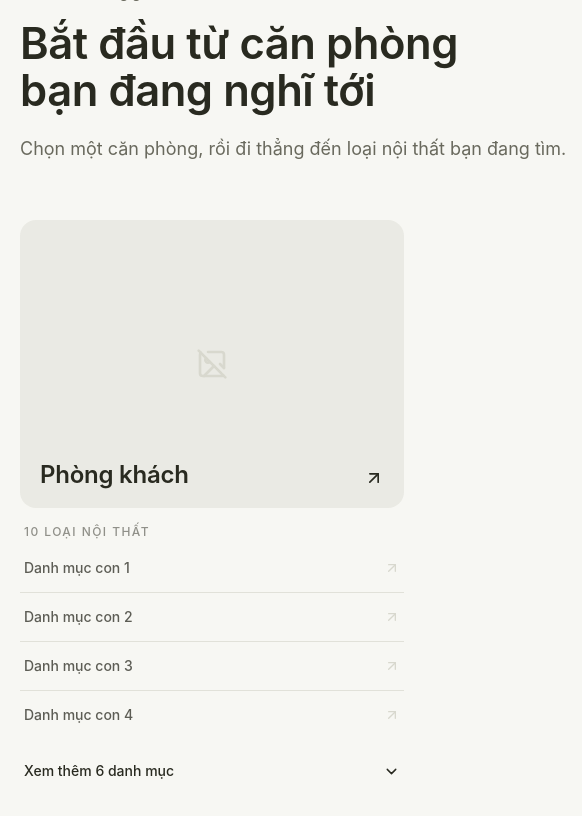
Test: FeaturedCategories › keeps long child lists compact and lets customers reveal every category
(page scrolled)
Expected: the text "10 loại nội thất" is shown, [24,524,150,540]
Expected: the link "Danh mục con 4" is shown, [24,706,400,723]
Click the button "Xem thêm 6 danh mục" at (99, 770), box [20,747,404,795]
(page scrolled)
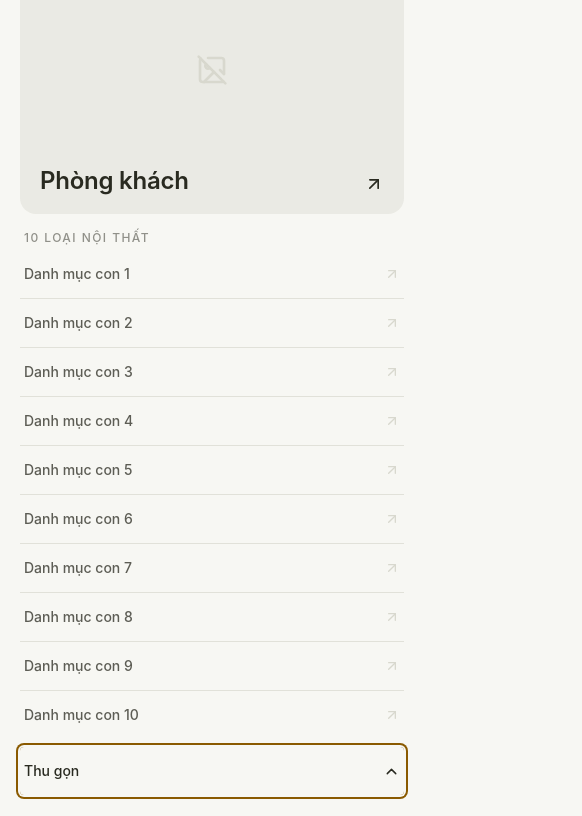
Now the button "Thu gọn" is expanded
Click the button "Thu gọn" at (52, 770), box [20,747,404,795]
(page scrolled)
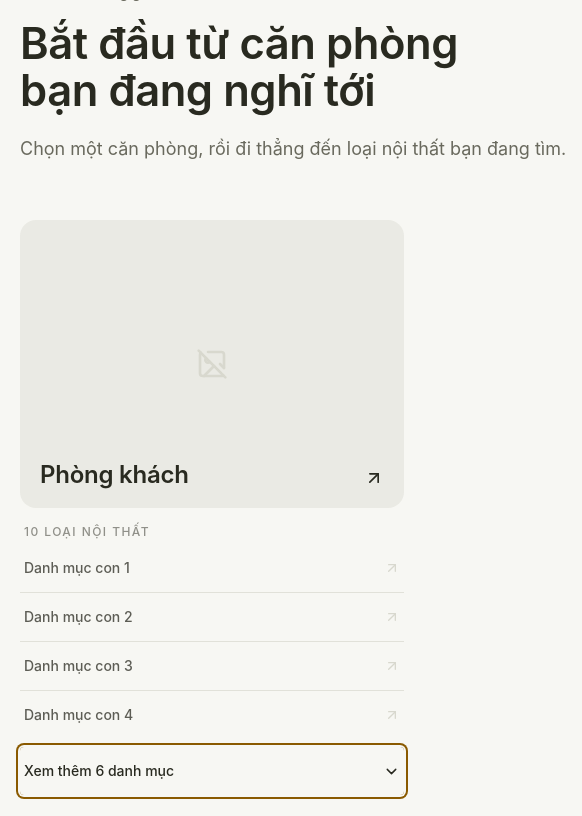
Now the link "Danh mục con 10" is gone
